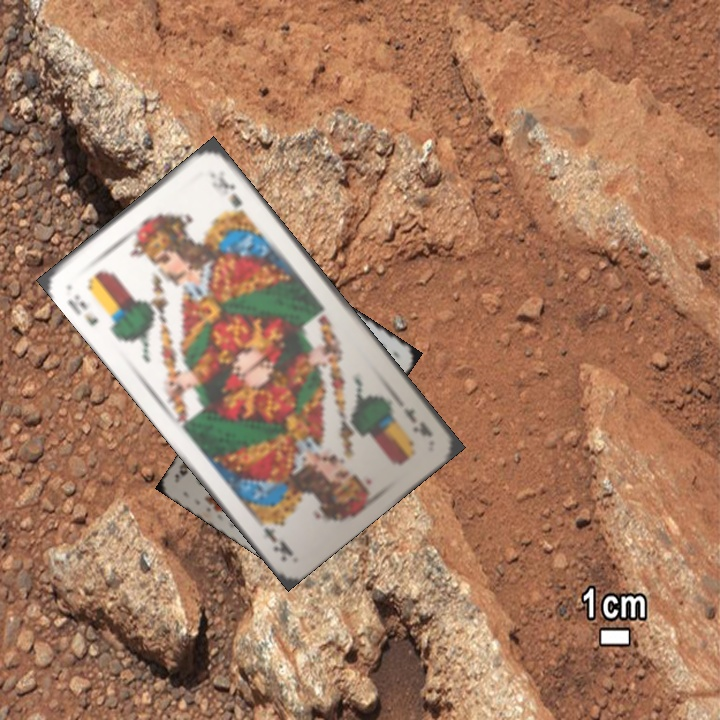EK: (63, 290, 101, 329), (399, 403, 435, 440)
